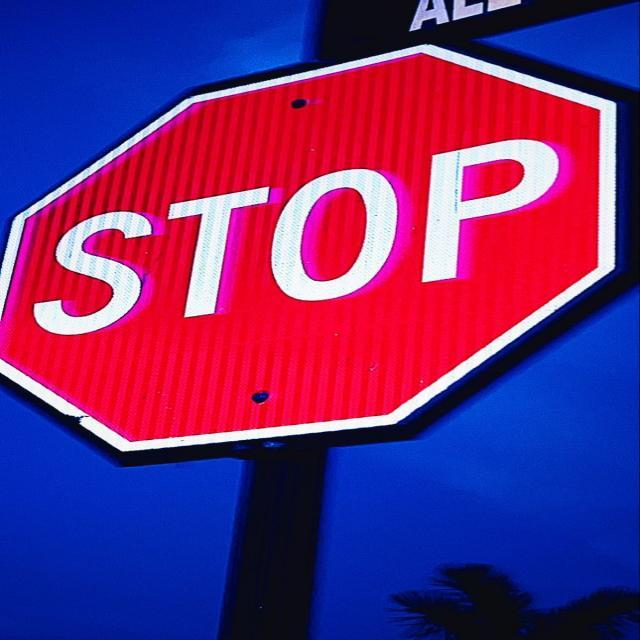stop: (0, 41, 622, 459)
